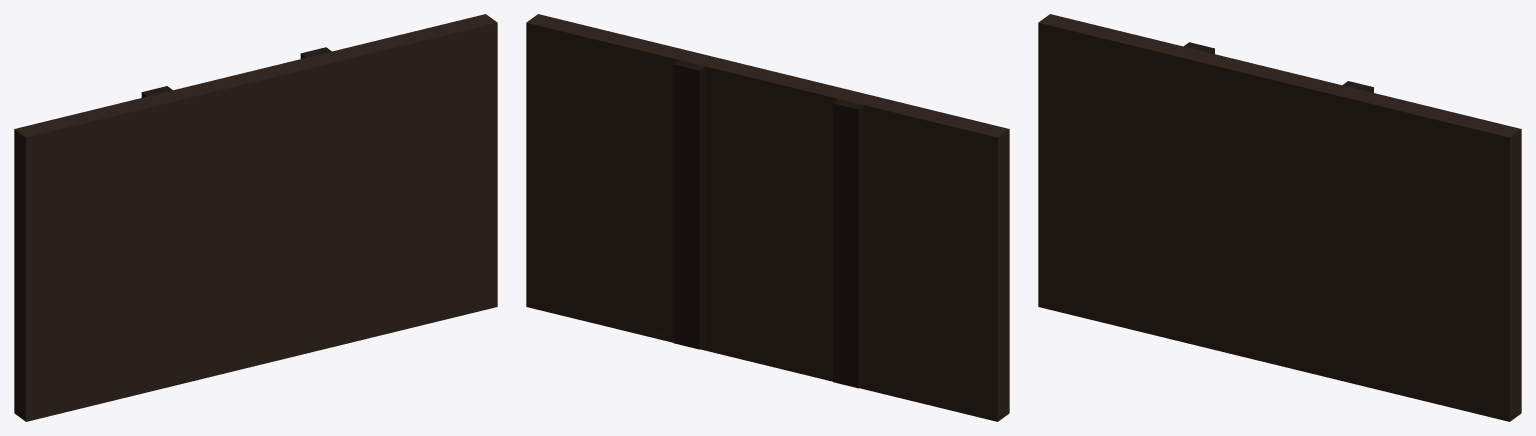
The model's file is Right_Wall.fbx.
3 renders of one model, left to right at view 1: azimuth 30°, elevation 25°; view 2: azimuth 150°, elevation 25°; view 3: azimuth 330°, elevation 25°, orthographic.
Visible parts, largest first — view 1: Right_Wall.Merged; view 2: Right_Wall.Merged; view 3: Right_Wall.Merged.
Boxes of the visible parts, <box> form: Right_Wall.Merged: <box>14,14,497,421</box>; Right_Wall.Merged: <box>526,14,1009,421</box>; Right_Wall.Merged: <box>1038,14,1521,421</box>.
Bounding box in the file's own units: 6.16 × 3.55 × 0.402.
